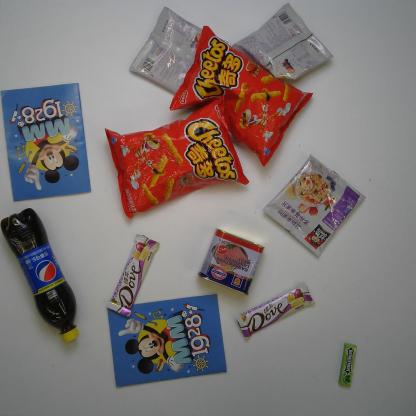Canned Food: (202, 225, 261, 296)
Chocolate: (236, 280, 314, 342), (109, 235, 160, 317)
Drink: (1, 207, 89, 350)
Gum: (336, 344, 359, 387)
Instant Drink: (265, 152, 366, 258), (232, 2, 334, 90), (132, 6, 214, 94)
Puffed Food: (170, 25, 315, 158), (100, 96, 249, 220)
Stationery: (108, 294, 230, 388), (1, 83, 92, 202)
